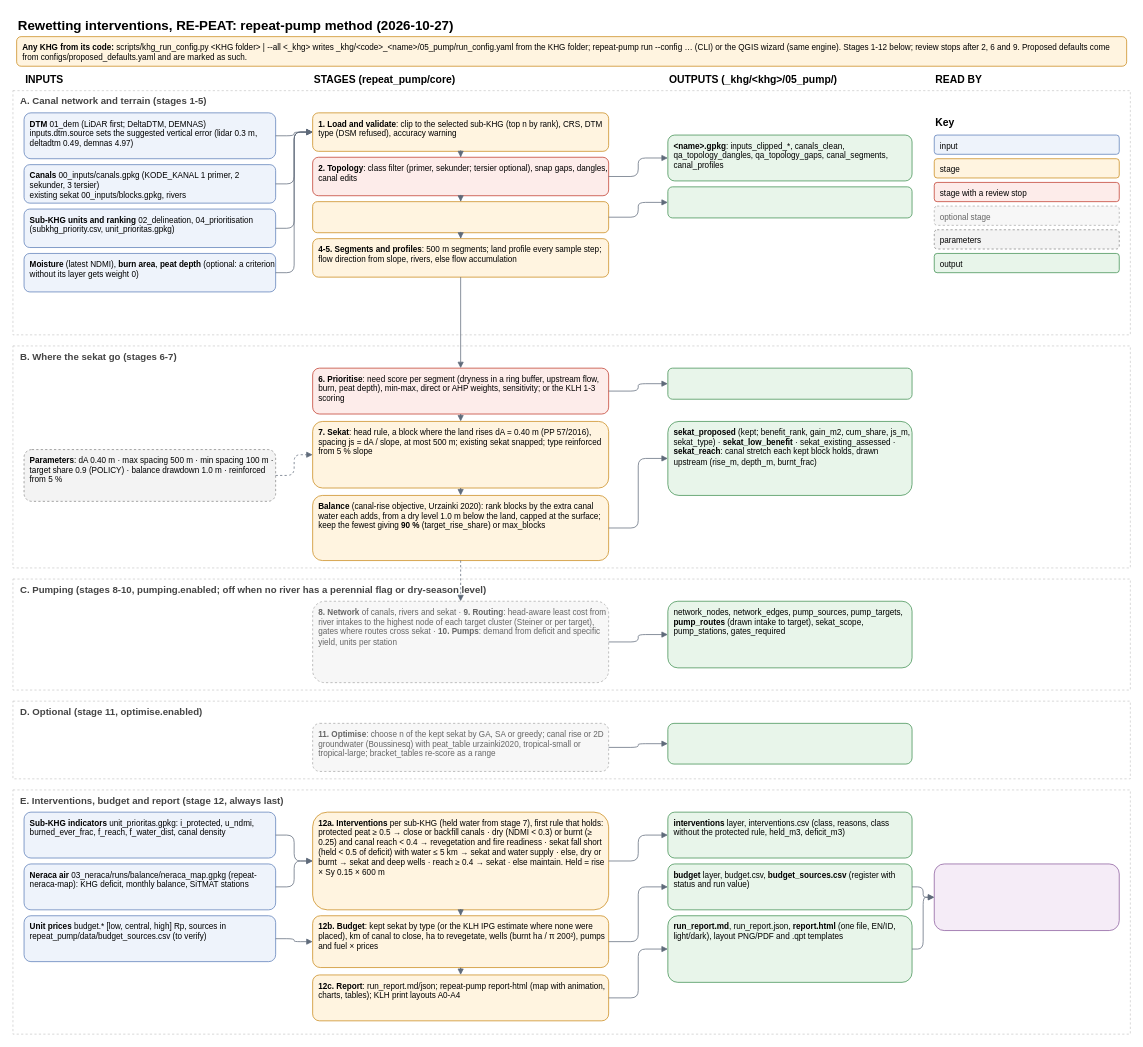
The diagram is 1143 pixels wide and 1047 high, and some of its shapes have lost their labels. Here are the shapes that lost their labels. From the top down, the centre of each, then its label:
(x=460, y=217): 3. Hydro : burn canals into the DTM, fill, flow accumulation (WhiteboxTools)
(x=789, y=202): <name>_work/ dtm_conditioned.tif, flow_acc.tif
(x=789, y=383): canal_segments (need_score, rank), qa_sensitivity
(x=789, y=743): sekat_optimised, qa_optimisation (benefit per method, vs random, per peat table)
(x=1026, y=897): KLH : plan, budget request, field check of sekat sites and prices
